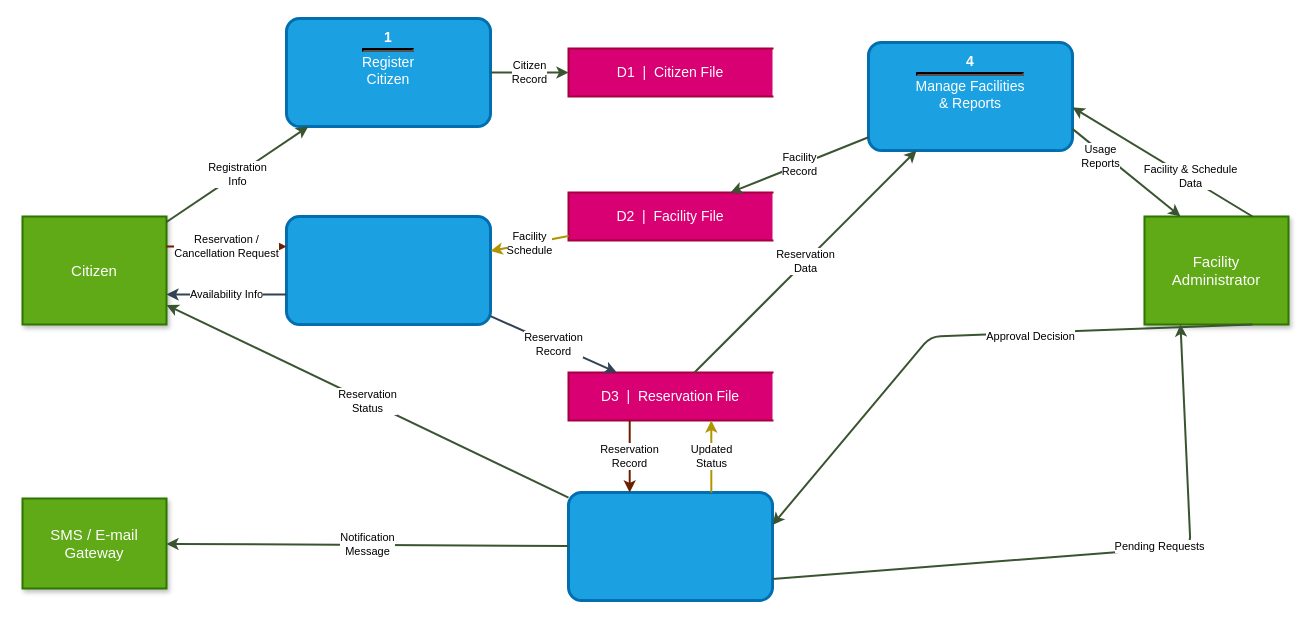
This 1312x619 diagram has some shape labels left out. Each missing label, with the centre of its shape:
"2 Reserve / Cancel Facility" belongs at point 388,270.
"3 Approve & Notify" belongs at point 670,546.
